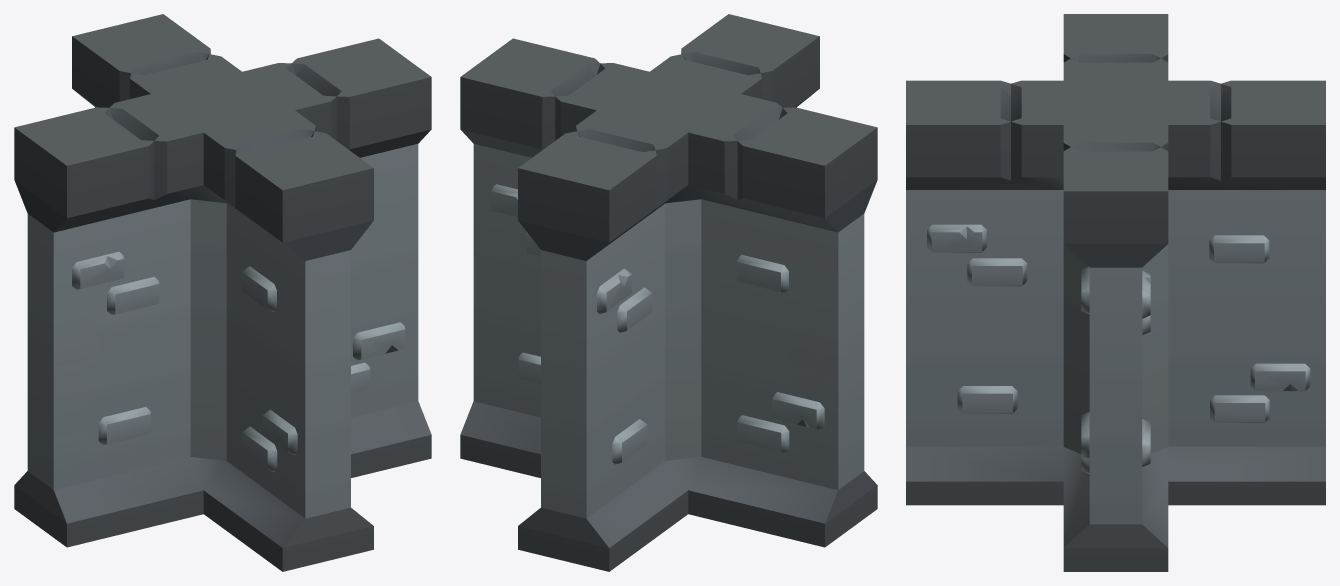
The model's file is wall_crossing.glb.
3 renders of one model, left to right at view 1: azimuth 30°, elevation 25°; view 2: azimuth 150°, elevation 25°; view 3: azimuth 270°, elevation 25°, orthographic.
Parts seen in each view (by area): view 1: wall_crossing; view 2: wall_crossing; view 3: wall_crossing.
Part boxes in pixels (x1=…): wall_crossing: x1=14, y1=14, x2=431, y2=571; wall_crossing: x1=460, y1=14, x2=877, y2=571; wall_crossing: x1=906, y1=14, x2=1325, y2=571.
Size of the model in its own units: 4 by 4 by 4.
1 material, 1 textured.
